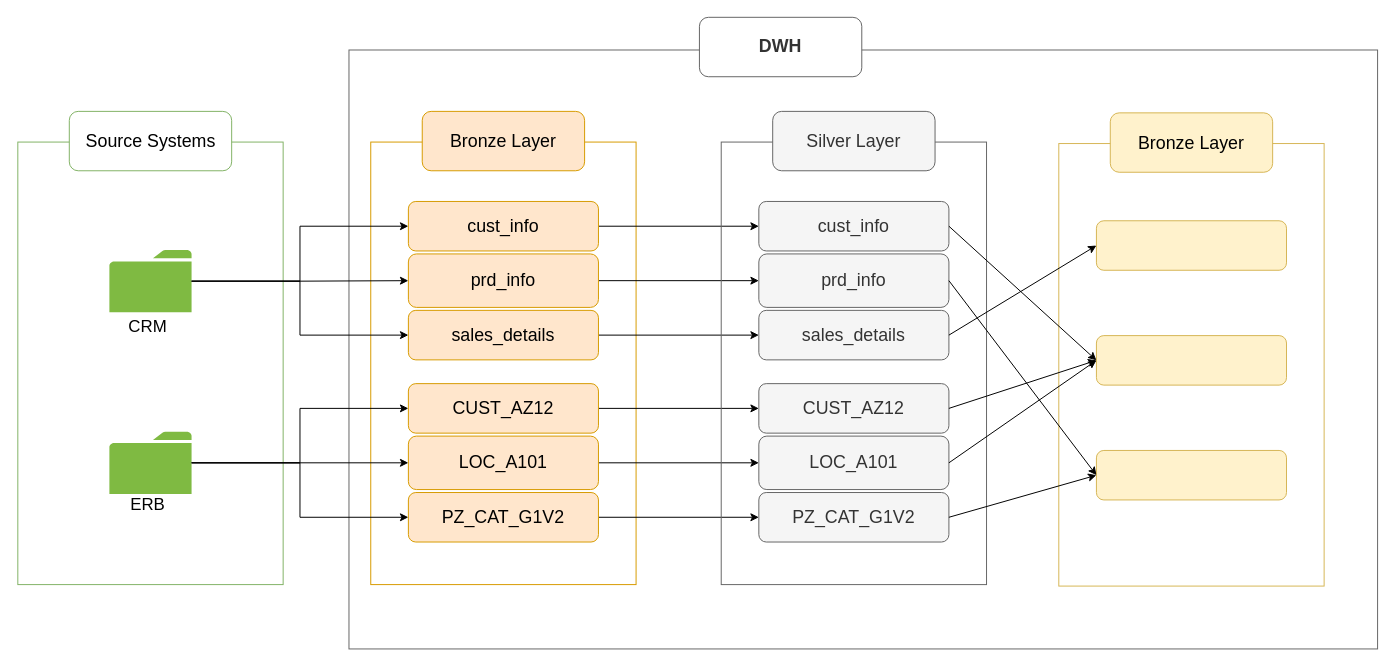
This 1395x666 diagram has some shape labels left out. Each missing label, with the centre of its shape:
"dim_customer" goes at [1191,360].
"dim_product" goes at [1191,474].
"fact_sales" goes at [1191,245].
